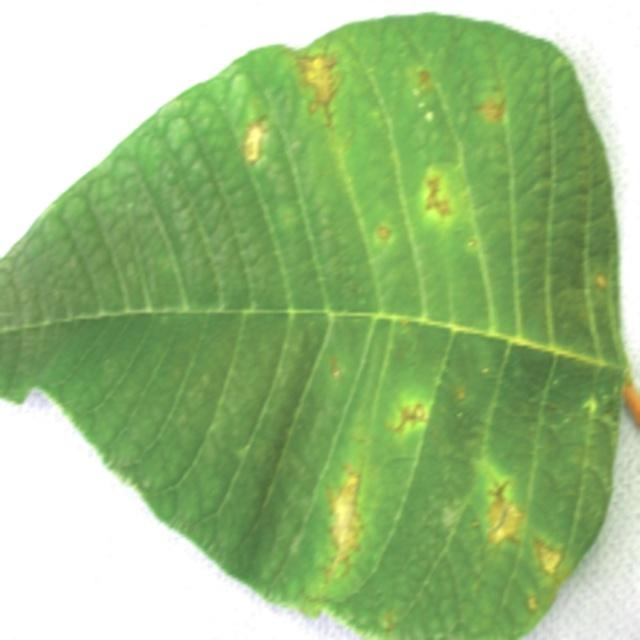leaf_spot: (157, 37, 579, 594)
